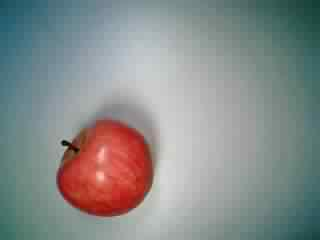apple: (47, 117, 154, 220)
